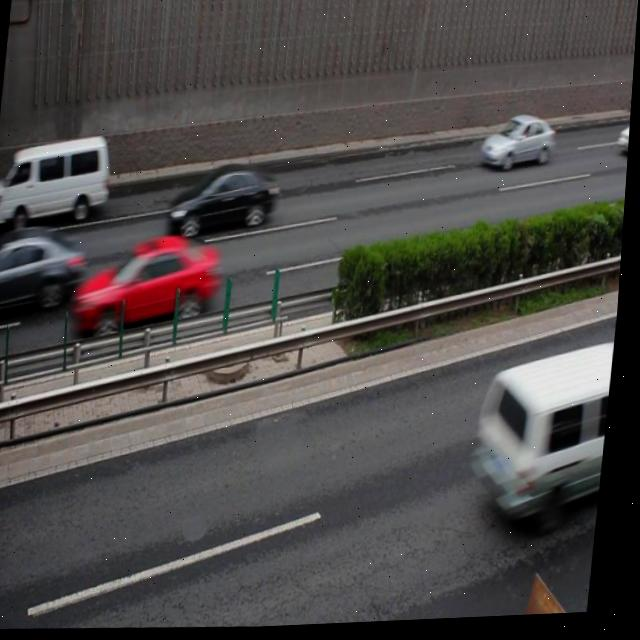car: (79, 232, 224, 339), (172, 163, 282, 240), (0, 228, 88, 314), (481, 113, 556, 177)
truck: (472, 349, 619, 530), (0, 131, 118, 233)
